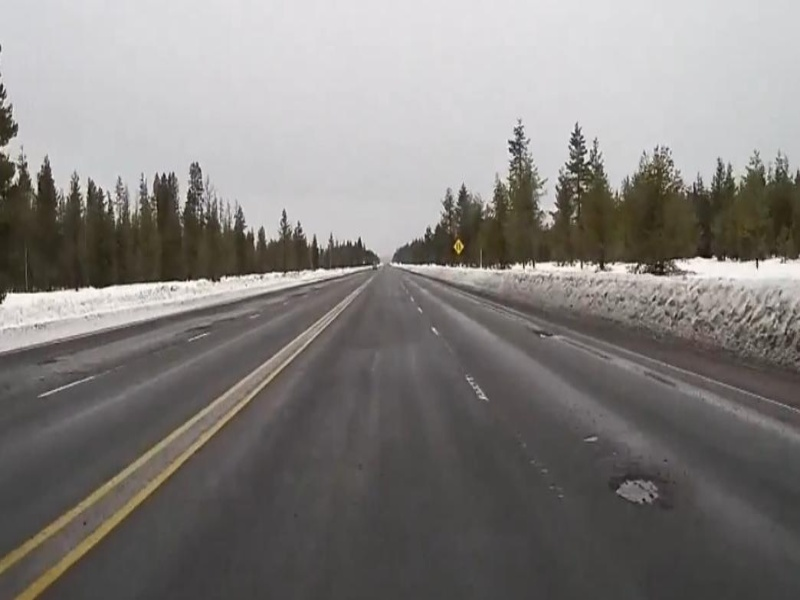pothole: (606, 471, 669, 511)
